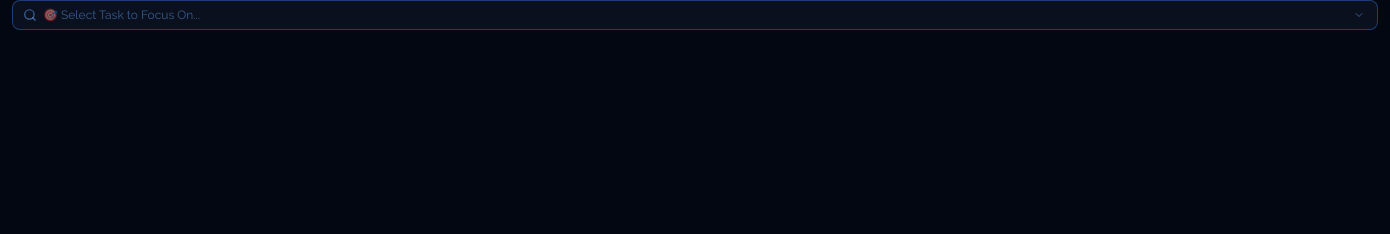
Test case: TimerTaskSearch › renders combobox and shows grouped tasks when dropdown is opened
Click input to open dropdown
Focus the dropdown: [694, 15] box [43,7,1345,23]
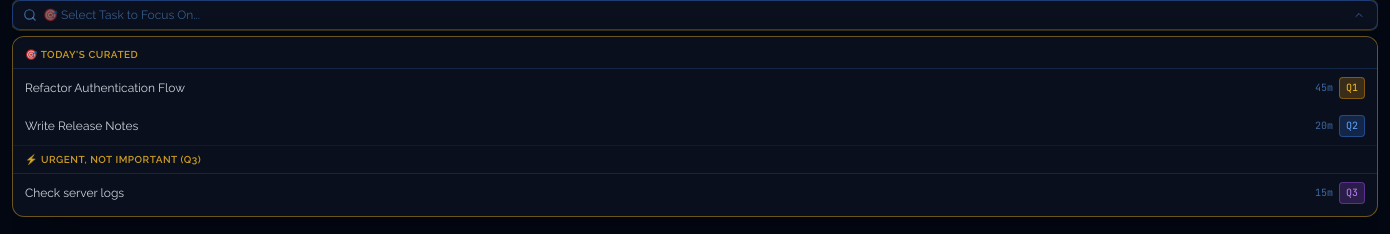
Expected: the list is shown
Expected: the text "🎯 Today's Curated" is shown, [13,41,1377,69]
Expected: the text "Refactor Authentication Flow" is shown, [25,81,185,95]
